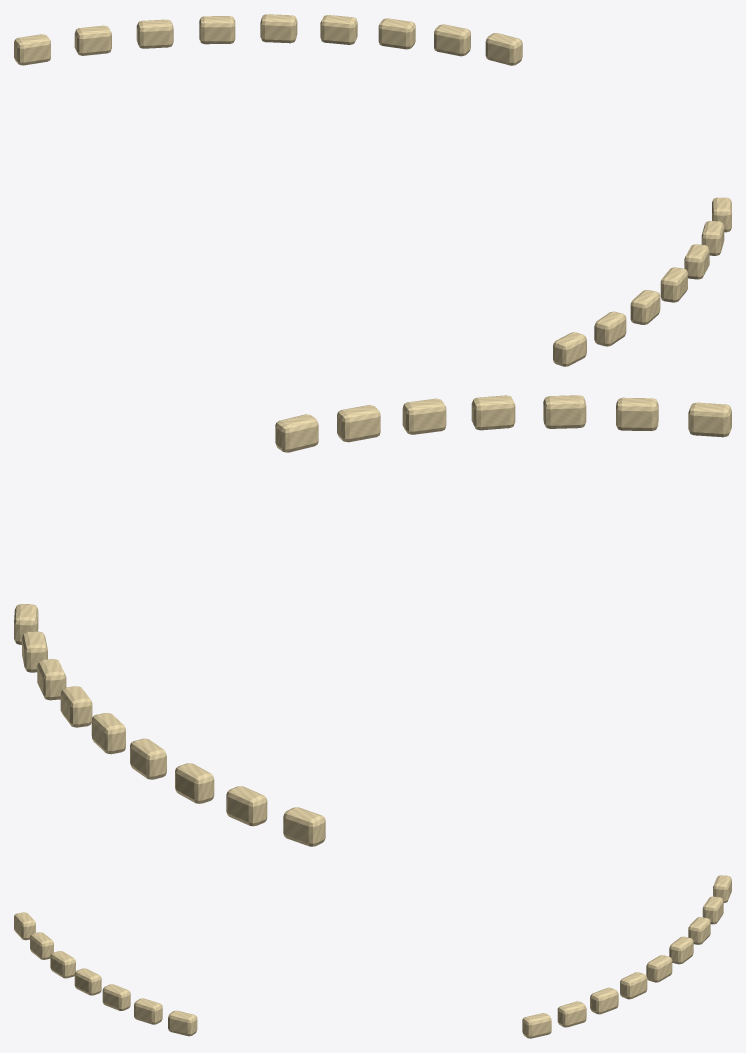
The model's file is Upper_Lookout_Wall.fbx.
3 renders of one model, top to bottom at view 1: azimuth 30°, elevation 25°; view 2: azimuth 150°, elevation 25°; view 3: azimuth 270°, elevation 25°, orthographic. The views are drawn at different scales.
Parts seen in each view (by area): view 1: Upper_Lookout_Wall; view 2: Upper_Lookout_Wall; view 3: Upper_Lookout_Wall.
Boxes of the visible parts, <box> form: Upper_Lookout_Wall: <box>14,14,731,366</box>; Upper_Lookout_Wall: <box>14,395,731,846</box>; Upper_Lookout_Wall: <box>14,875,731,1038</box>.
Size of the model in its own units: 1107 by 2270 by 65.
